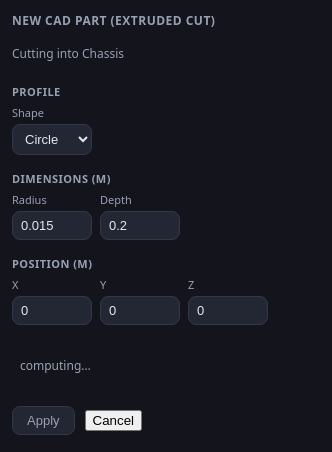
Test: CadExtrudedCutCreator › allows a negative position offset (drilling from the other side), unlike the always-positive dimension fields
This screenshot has width=332, height=452.
Replace the text in the number field named "cad position x" with "-0.03" at (52, 310), box left=12, top=296, right=92, bottom=325
Wait 400 ms
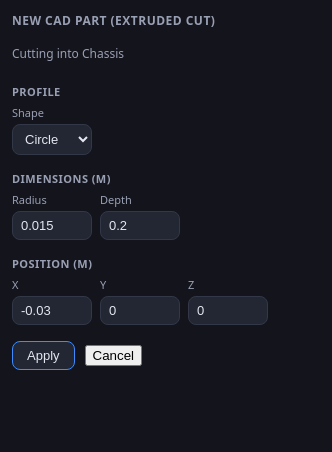
Check: the button "Apply" is enabled, box left=12, top=341, right=74, bottom=370
